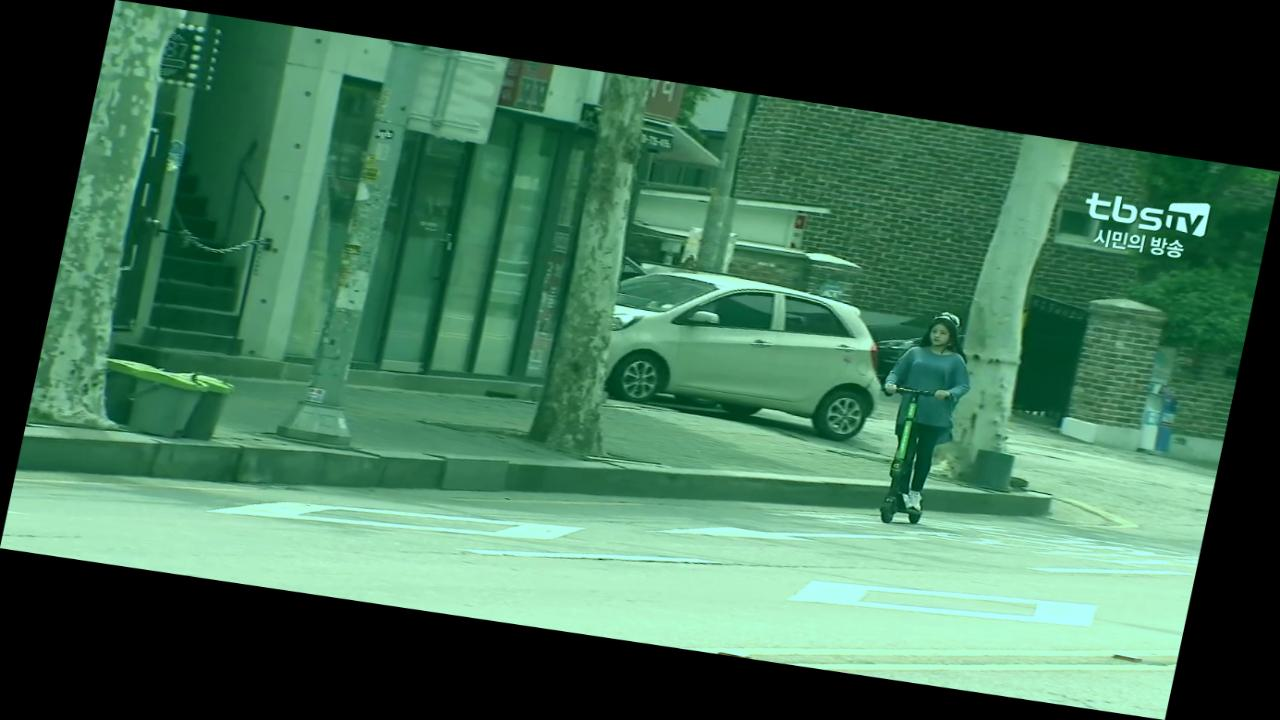helmet: (853, 303, 988, 533)
